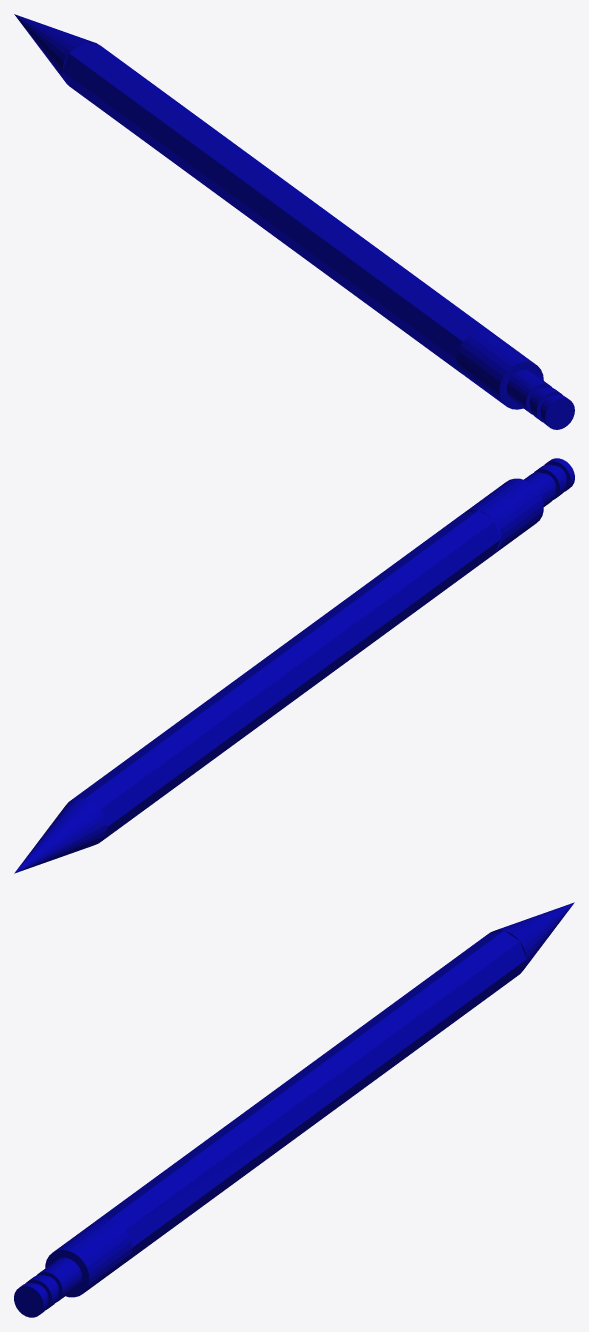
Rendered from pen1_4.dae.
3 renders of one model, top to bottom at view 1: azimuth 30°, elevation 25°; view 2: azimuth 150°, elevation 25°; view 3: azimuth 330°, elevation 25°, orthographic.
Visible parts, largest first — view 1: M000300; view 2: M000300; view 3: M000300.
Part boxes in pixels (bbox=[...]): M000300: bbox=[14, 14, 574, 429]; M000300: bbox=[14, 458, 574, 873]; M000300: bbox=[14, 902, 574, 1317].
Size of the model in its own units: 0.0117 by 0.2481 by 0.0117.
